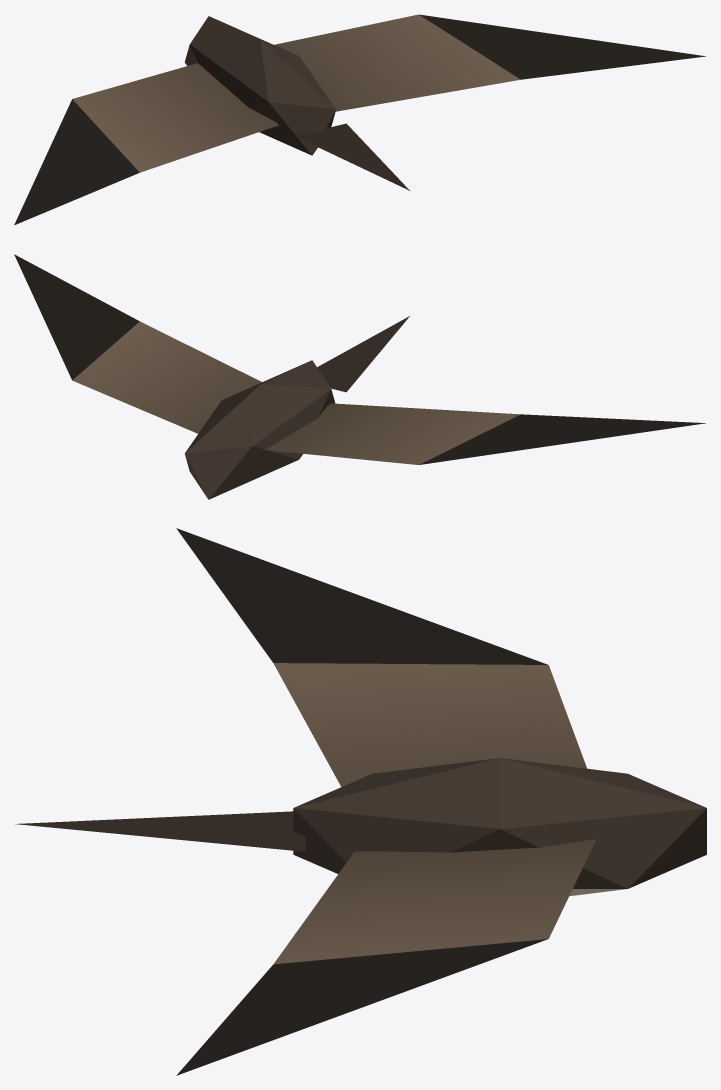
File: bird.glb
The picture shows the model from 3 angles, top to bottom: view 1: azimuth 30°, elevation 25°; view 2: azimuth 150°, elevation 25°; view 3: azimuth 270°, elevation 25°; orthographic projection. The views are drawn at different scales.
Parts seen in each view (by area): view 1: bird; view 2: bird; view 3: bird.
Boxes of the visible parts, left/top/right/bottom form: bird: left=14, top=14, right=705, bottom=225; bird: left=14, top=254, right=705, bottom=499; bird: left=15, top=528, right=706, bottom=1075.
Bounding box in the file's own units: 0.8 × 0.1 × 0.4276.
